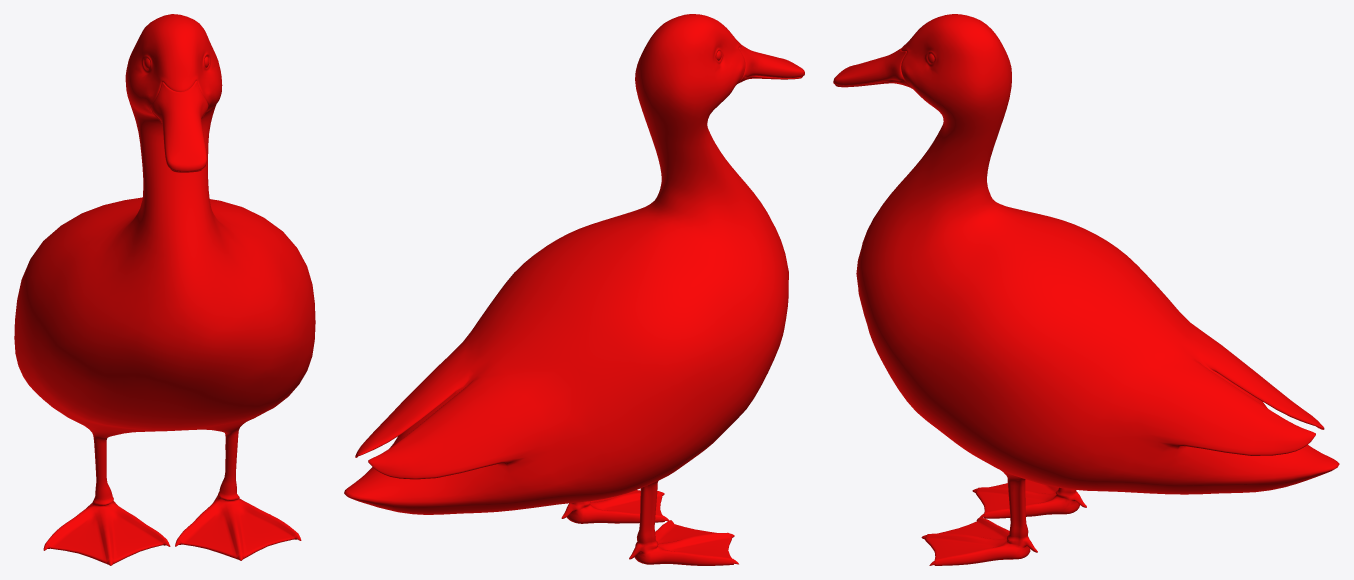
The model's file is duck.glb.
3 renders of one model, left to right at view 1: azimuth 30°, elevation 25°; view 2: azimuth 150°, elevation 25°; view 3: azimuth 270°, elevation 25°, orthographic. The views are drawn at different scales.
Parts seen in each view (by area): view 1: Layer 01; view 2: Layer 01; view 3: Layer 01.
Boxes of the visible parts, x1=… form: Layer 01: x1=14, y1=14, x2=315, y2=565; Layer 01: x1=344, y1=14, x2=804, y2=565; Layer 01: x1=833, y1=14, x2=1339, y2=565.
Size of the model in its own units: 0.0317 by 0.0565 by 0.0518.
